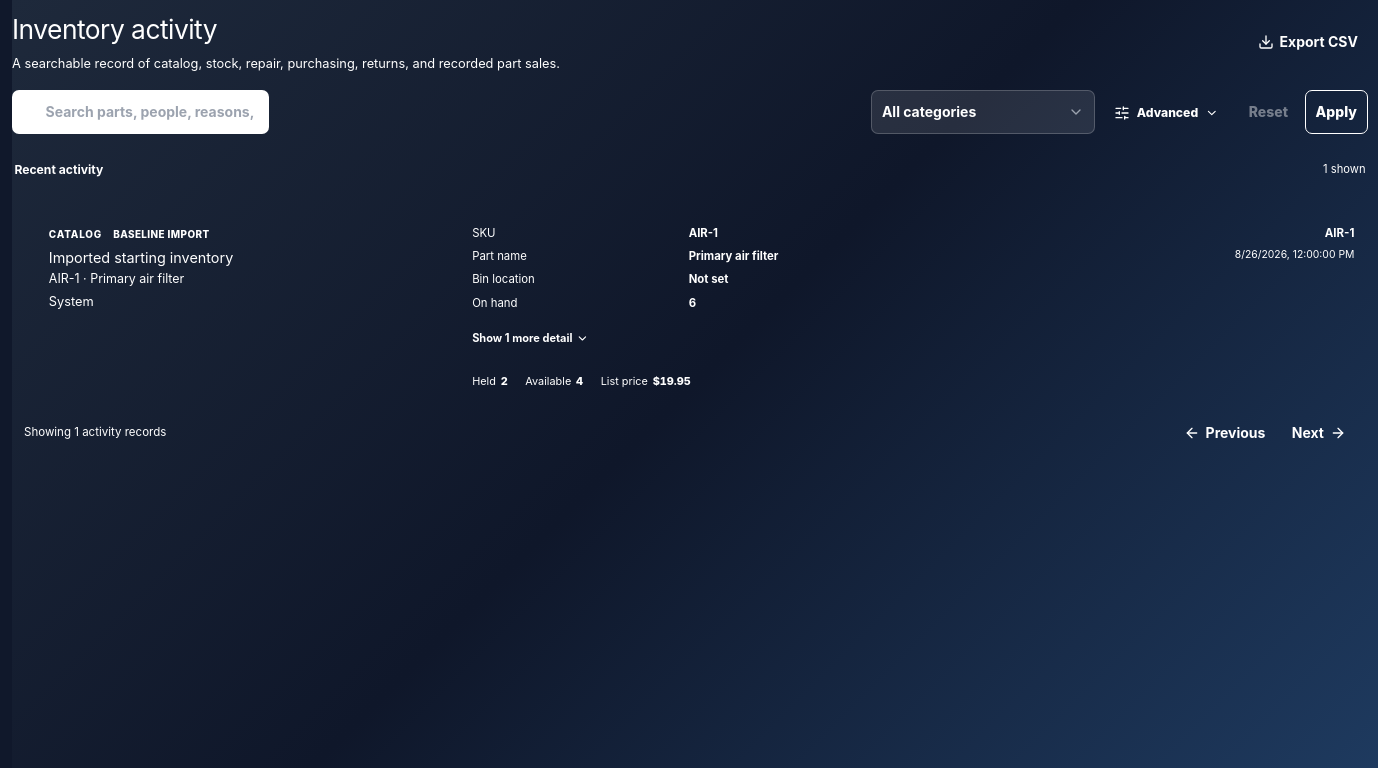
Scenario: DB-045 inventory Activity workspace › presents imported baselines as readable starting records instead of raw event payloads
Expected: the heading "Imported starting inventory" is shown, x1=49 y1=249 x2=233 y2=266
Expected: the text "Baseline import" is shown, x1=108 y1=225 x2=215 y2=245
Click the heading "Show 1 more detail" at (531, 338), box x1=472 y1=331 x2=589 y2=345
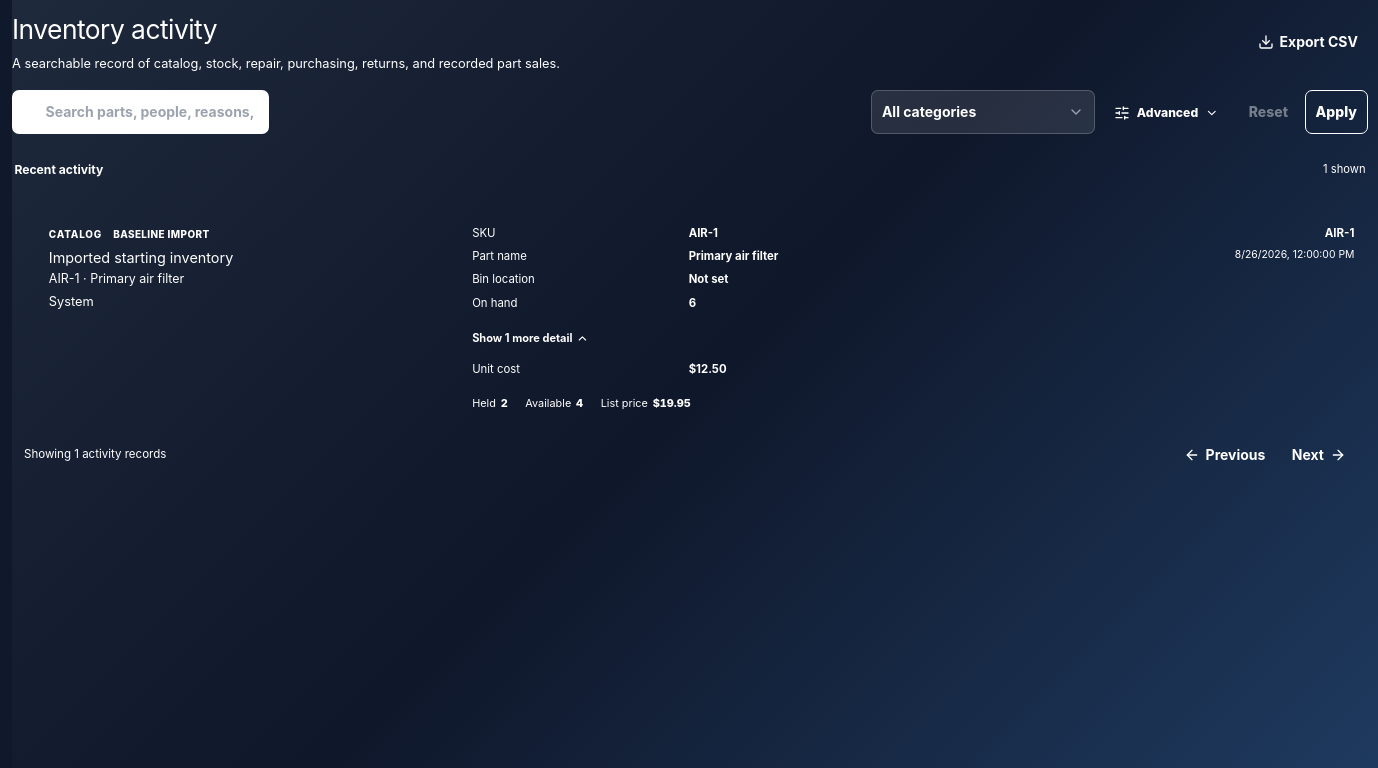
Expected: the text "List price" is shown, x1=601 y1=395 x2=648 y2=411
Expected: the text "Unit cost" is shown, x1=472 y1=362 x2=520 y2=376
Expected: the text "$12.50" is shown, x1=689 y1=361 x2=727 y2=378
